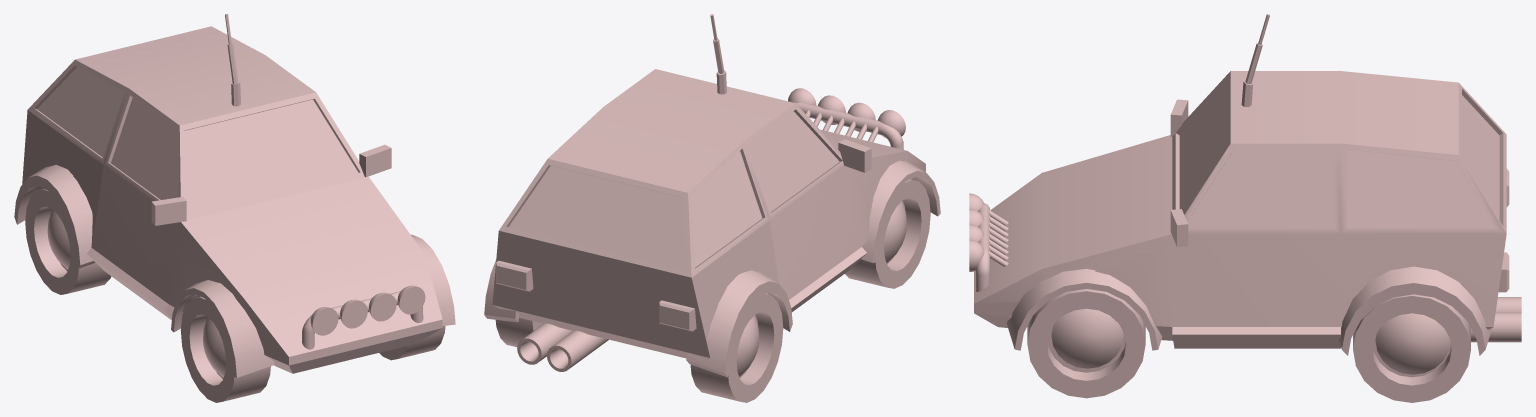
File: Pidgeon306.fbx
3 renders of one model, left to right at view 1: azimuth 30°, elevation 25°; view 2: azimuth 150°, elevation 25°; view 3: azimuth 270°, elevation 25°, orthographic. The views are drawn at different scales.
Parts seen in each view (by area): view 1: Pidgeon306; view 2: Pidgeon306; view 3: Pidgeon306.
Boxes of the visible parts, x1,y1,x2,y2 form: Pidgeon306: [14, 14, 455, 402]; Pidgeon306: [484, 14, 940, 402]; Pidgeon306: [969, 14, 1521, 402].
Bounding box in the file's own units: 2.09 × 2.53 × 3.89.
